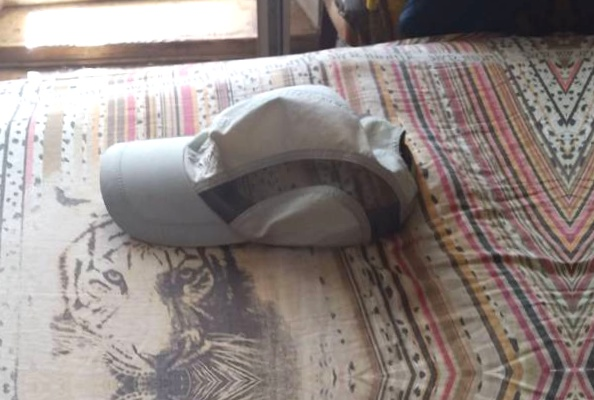Hat: (63, 60, 444, 276)
